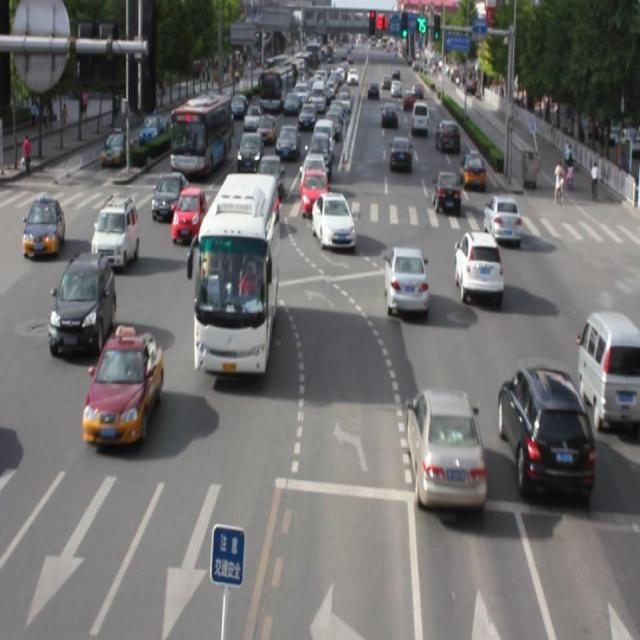car: (499, 364, 592, 501), (82, 327, 163, 446), (407, 385, 484, 509), (50, 251, 114, 358), (452, 230, 500, 300), (92, 194, 138, 267), (384, 244, 426, 315), (311, 196, 355, 253), (172, 185, 206, 245), (483, 194, 520, 241), (152, 171, 187, 220)
truck: (576, 307, 640, 427)
van: (193, 172, 277, 372)
